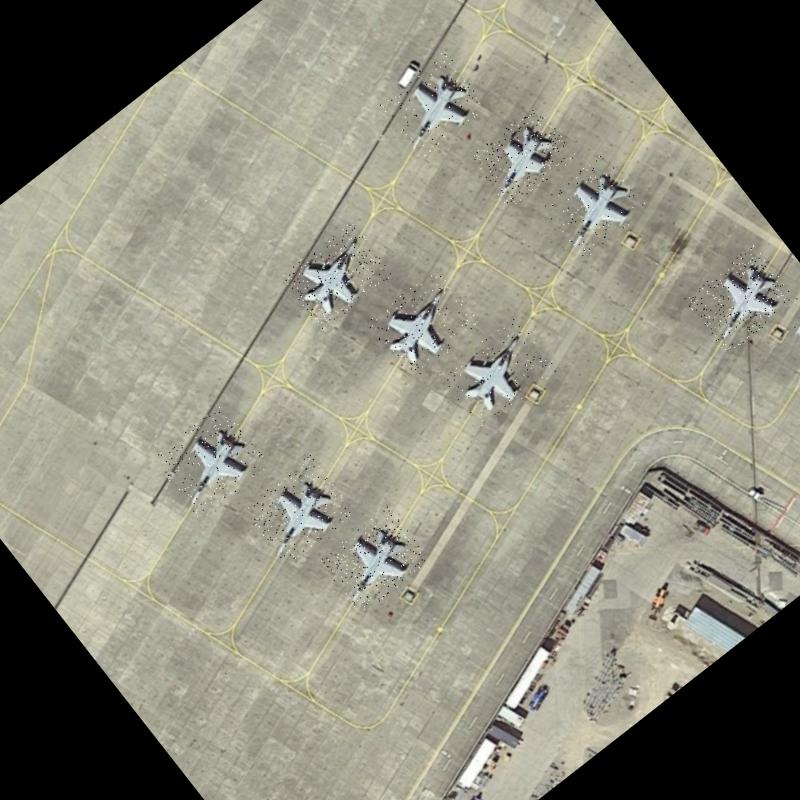A16: (151, 403, 271, 521), (438, 314, 559, 430), (366, 267, 482, 381), (242, 454, 357, 566), (280, 220, 394, 332), (538, 150, 651, 262), (684, 244, 798, 355), (318, 506, 431, 616), (378, 50, 489, 159), (469, 104, 577, 209), (760, 291, 800, 400)
